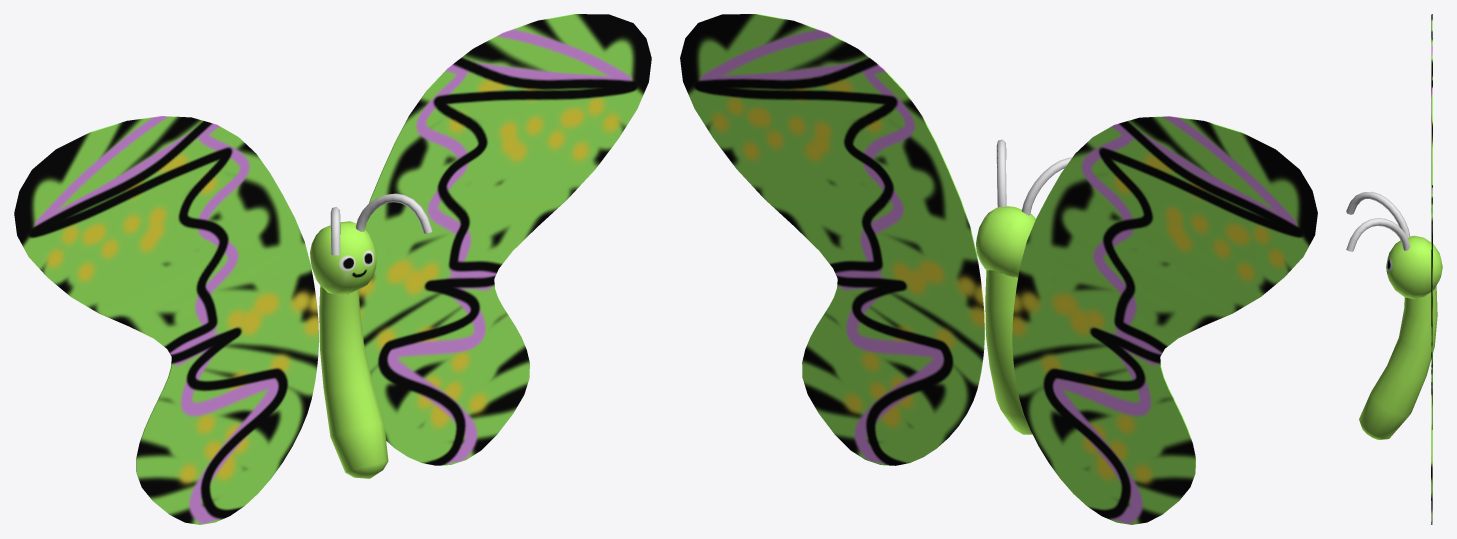
The model's file is butterfly.fbx.
The picture shows the model from 3 angles, left to right: view 1: azimuth 30°, elevation 25°; view 2: azimuth 150°, elevation 25°; view 3: azimuth 270°, elevation 25°; orthographic projection. The views are drawn at different scales.
Visible parts, largest first — view 1: WingR, WingL, ButterflyBody, ButterflyAntennas; view 2: WingR, WingL, ButterflyBody, ButterflyAntennas; view 3: ButterflyBody, ButterflyAntennas, WingL, WingR.
Part boxes in pixels (x1,y1,x2,y2): WingR: (14, 116, 318, 524); WingL: (359, 14, 651, 465); ButterflyBody: (310, 221, 388, 478); ButterflyAntennas: (330, 193, 432, 255); WingR: (1012, 116, 1317, 524); WingL: (680, 14, 984, 465); ButterflyBody: (976, 206, 1035, 434); ButterflyAntennas: (996, 139, 1071, 215); ButterflyBody: (1359, 235, 1442, 439); ButterflyAntennas: (1346, 192, 1410, 251); WingL: (1431, 185, 1432, 524); WingR: (1431, 14, 1432, 242).
Bounding box in the file's own units: 1157 × 733 × 182.
